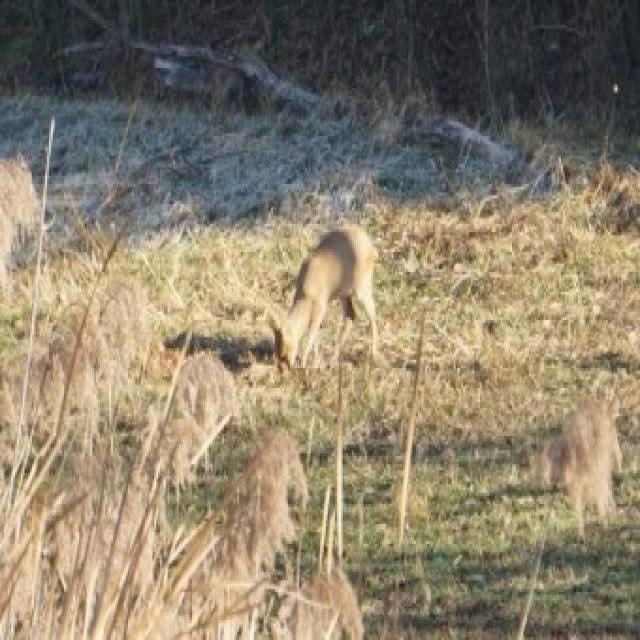deer: (260, 198, 416, 399)
